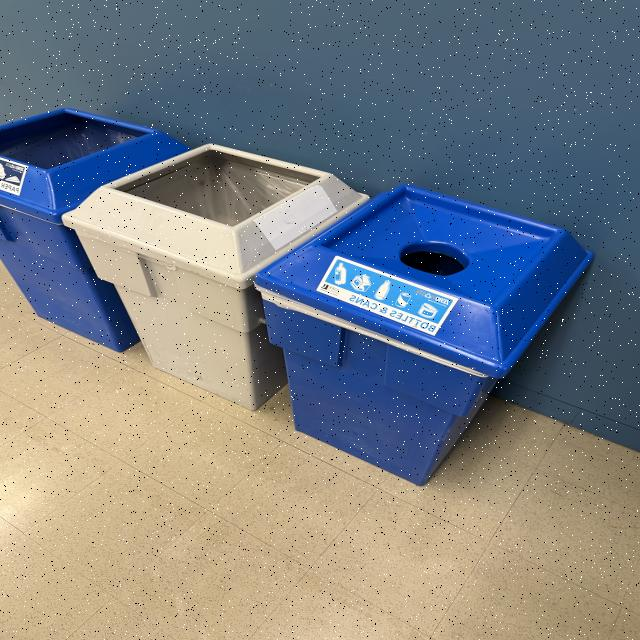Dustbin: (0, 109, 596, 488)
